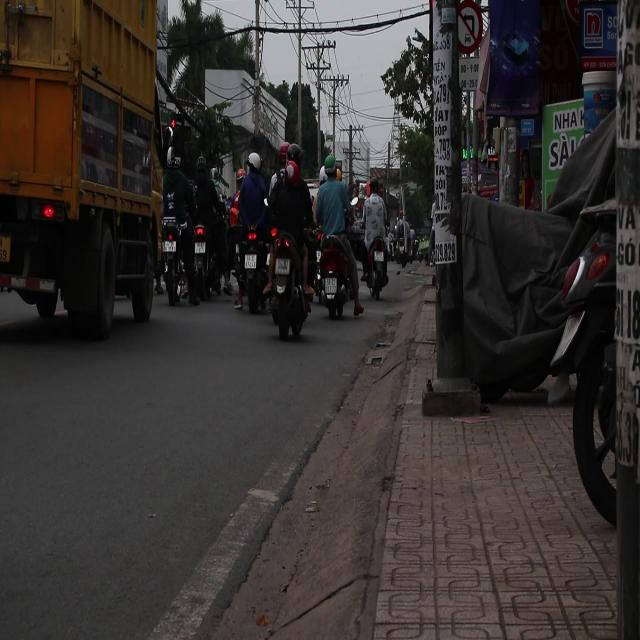motorbike: (266, 226, 312, 341), (312, 232, 357, 320), (160, 216, 197, 317), (241, 223, 265, 327), (391, 216, 415, 268)
truck: (0, 6, 161, 344)
